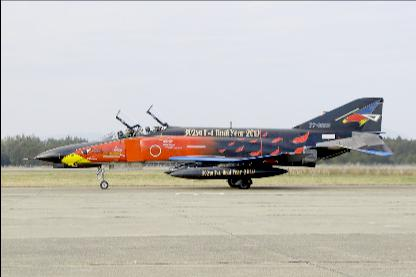F35: (19, 96, 393, 188)
